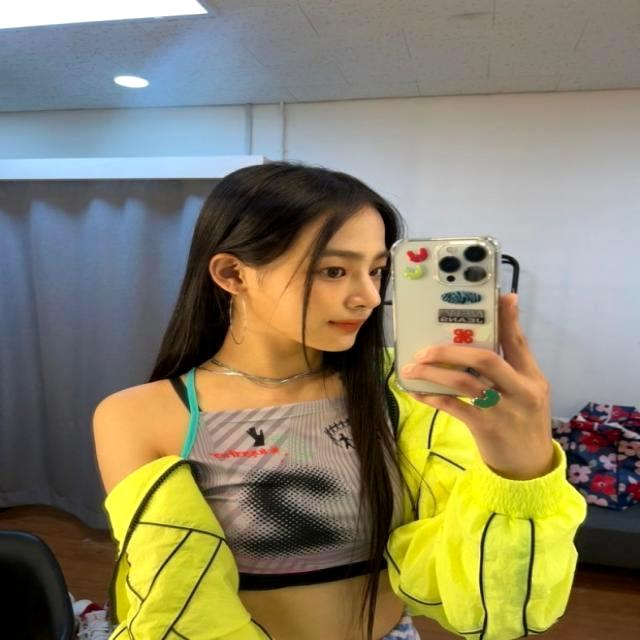lens_back: (437, 254, 463, 274), (462, 244, 490, 262), (461, 265, 488, 283)
phone: (389, 235, 508, 398)
